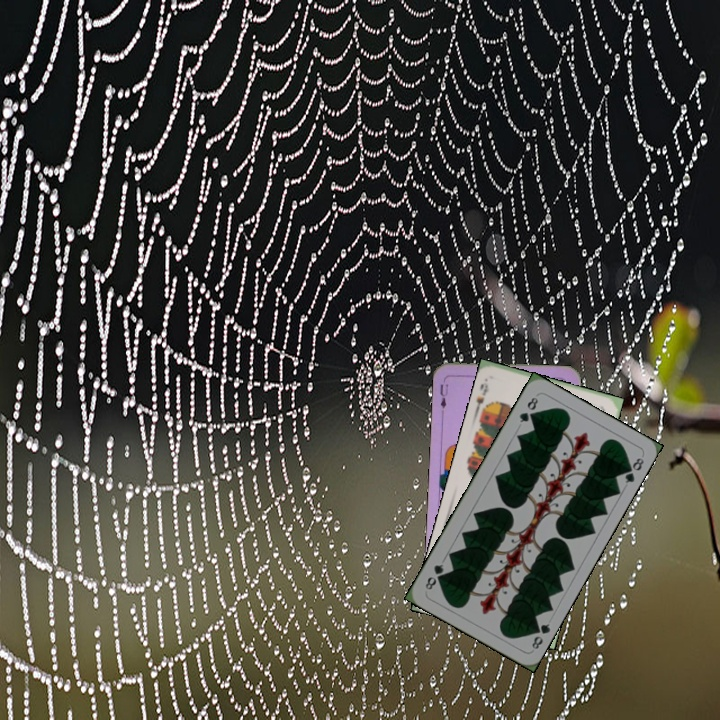EU: (436, 375, 451, 415)
G8: (527, 619, 553, 652), (515, 393, 541, 425)
S9: (471, 375, 492, 416)
